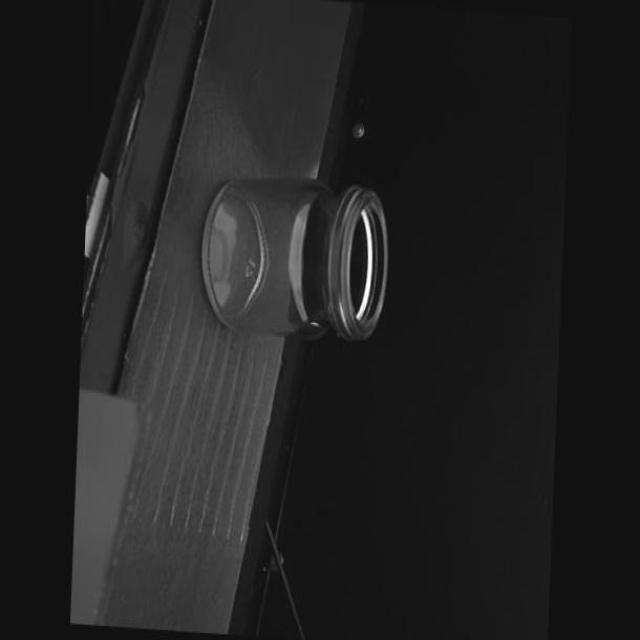defect: (309, 319, 319, 328)
glass: (192, 169, 390, 346)
